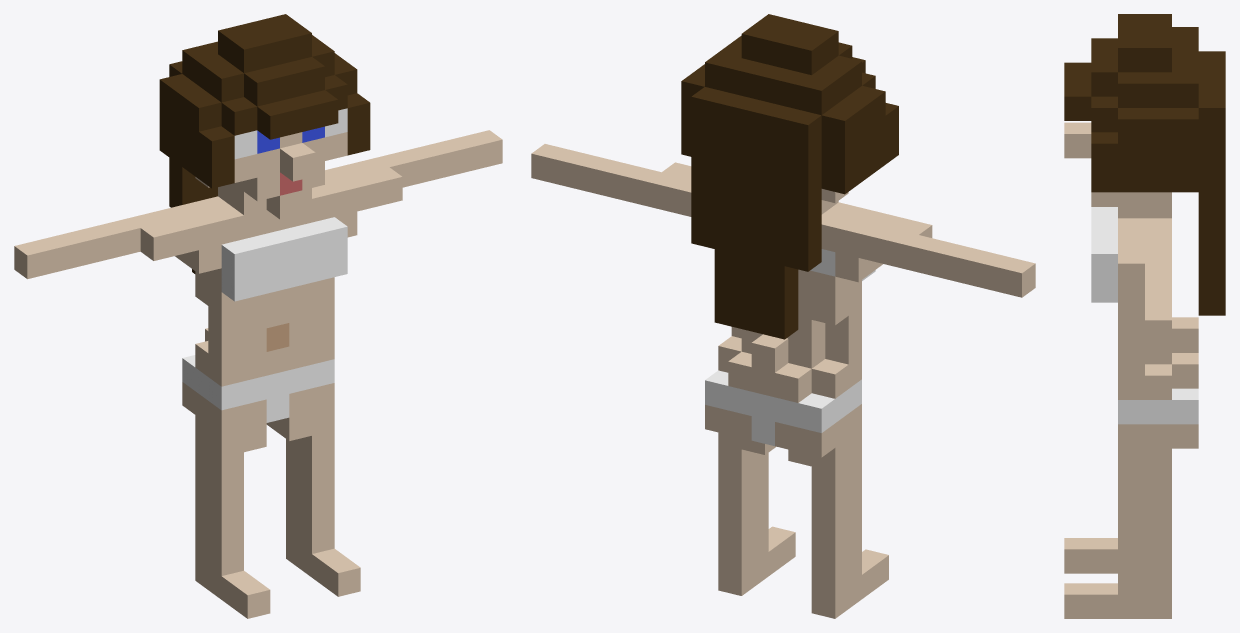
File: female_01.gltf
3 views of the same model, side by side, from view 1: azimuth 30°, elevation 25°; view 2: azimuth 150°, elevation 25°; view 3: azimuth 270°, elevation 25° (orthographic). The views are drawn at different scales.
Visible parts, largest first — view 1: Layer.1; view 2: Layer.1; view 3: Layer.1.
Boxes of the visible parts, x1=… form: Layer.1: x1=14, y1=14, x2=502, y2=618; Layer.1: x1=531, y1=14, x2=1035, y2=618; Layer.1: x1=1064, y1=14, x2=1225, y2=618.
Bounding box in the file's own units: 21 × 23 × 6.
1 material, 1 textured.
